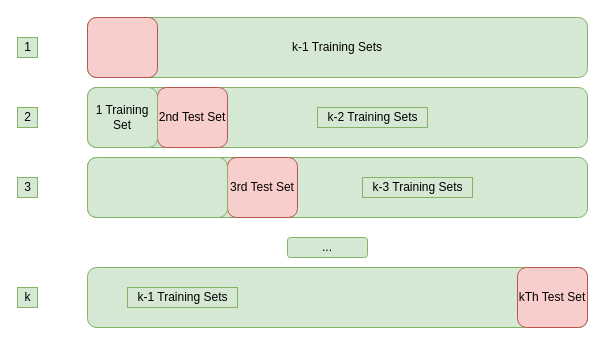
Some shapes in this 605 by 345 pixel diagram are drawn without their labels. Each missing label, with the centre of its shape:
"1rst Test Set" belongs at (122,47).
"2 Training Sets" belongs at (157,187).
